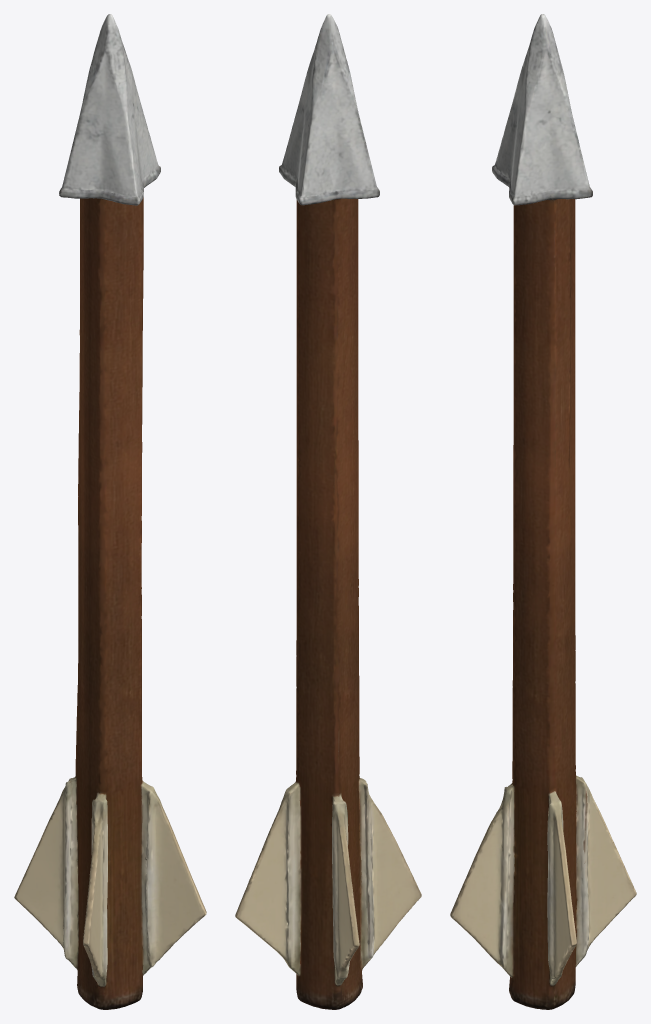
File: kit_arrow.glb
3 views of the same model, side by side, from view 1: azimuth 30°, elevation 25°; view 2: azimuth 150°, elevation 25°; view 3: azimuth 330°, elevation 25° (orthographic).
Parts seen in each view (by area): view 1: kit_arrow_s7_fit; view 2: kit_arrow_s7_fit; view 3: kit_arrow_s7_fit.
Part boxes in pixels (x1=…): kit_arrow_s7_fit: x1=14, y1=14, x2=206, y2=1009; kit_arrow_s7_fit: x1=235, y1=14, x2=421, y2=1009; kit_arrow_s7_fit: x1=450, y1=14, x2=636, y2=1009.
Bounding box in the file's own units: 0.11 × 0.8133 × 0.1053.
Materials: 1 (1 with a texture image).
